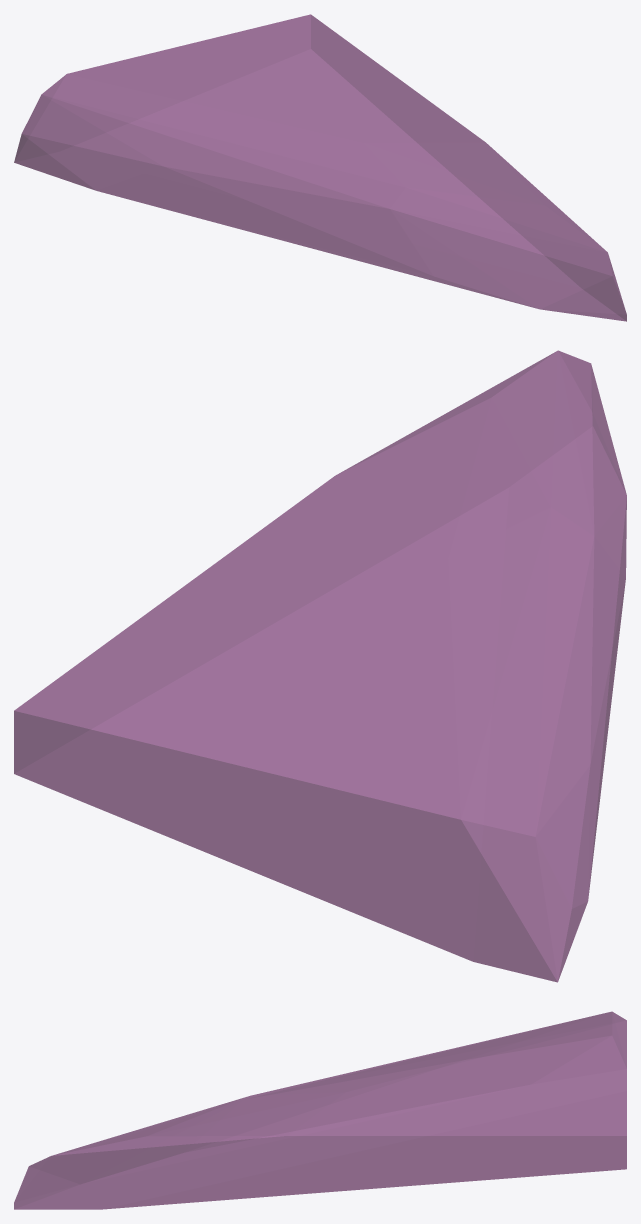
The picture shows the model from 3 angles, top to bottom: view 1: azimuth 30°, elevation 25°; view 2: azimuth 150°, elevation 25°; view 3: azimuth 270°, elevation 25°; orthographic projection. The views are drawn at different scales.
Visible parts, largest first — view 1: Shape_IndexedFaceSet.024_Shape_IndexedFaceSet.5463; view 2: Shape_IndexedFaceSet.024_Shape_IndexedFaceSet.5463; view 3: Shape_IndexedFaceSet.024_Shape_IndexedFaceSet.5463.
Part boxes in pixels (x1=…): Shape_IndexedFaceSet.024_Shape_IndexedFaceSet.5463: x1=14, y1=14, x2=626, y2=321; Shape_IndexedFaceSet.024_Shape_IndexedFaceSet.5463: x1=14, y1=350, x2=626, y2=982; Shape_IndexedFaceSet.024_Shape_IndexedFaceSet.5463: x1=14, y1=1011, x2=626, y2=1209.
Bounding box in the file's own units: 0.0203 × 0.00495 × 0.0373.
